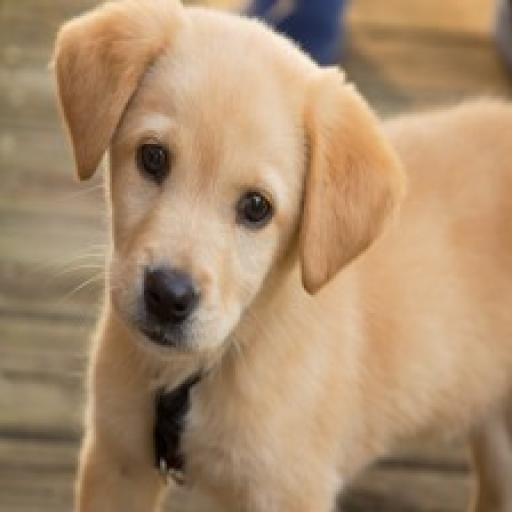dog: (45, 1, 512, 512)
